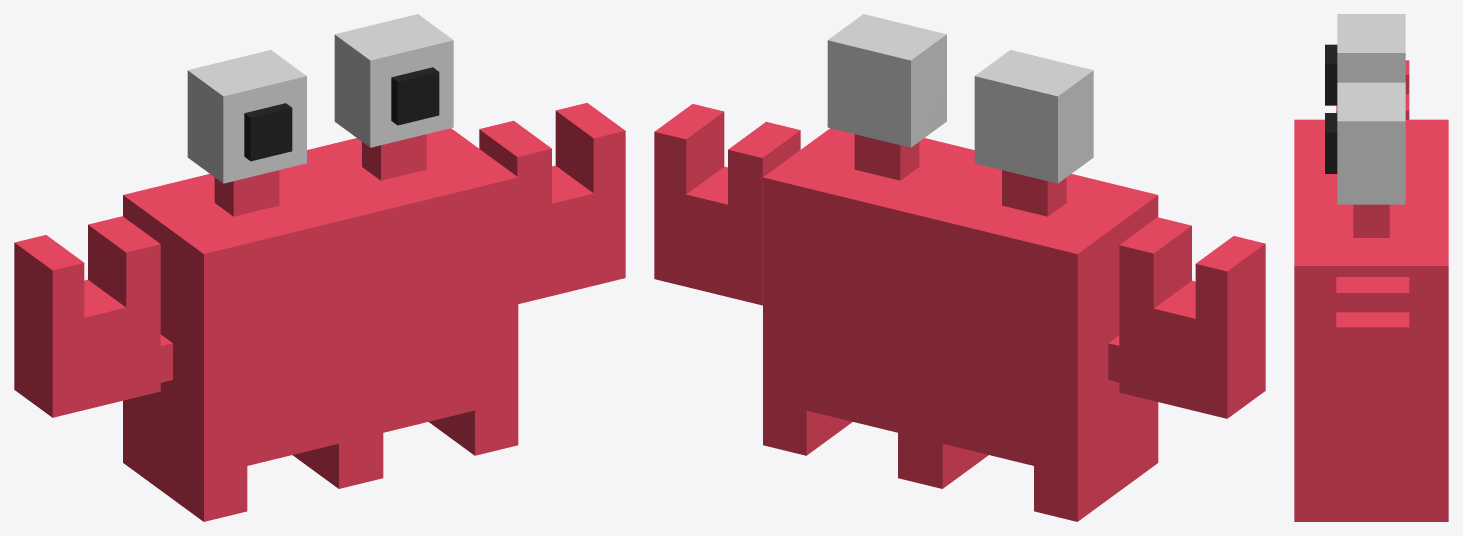
File: enemy.fbx
The picture shows the model from 3 angles, left to right: view 1: azimuth 30°, elevation 25°; view 2: azimuth 150°, elevation 25°; view 3: azimuth 270°, elevation 25°; orthographic projection. The views are drawn at different scales.
Parts seen in each view (by area): view 1: Enemy; view 2: Enemy; view 3: Enemy.
Part boxes in pixels (left/top/right/bottom): Enemy: left=14, top=14, right=625, bottom=521; Enemy: left=654, top=14, right=1265, bottom=521; Enemy: left=1294, top=14, right=1448, bottom=521.
Bounding box in the file's own units: 4.74 × 3.15 × 1.16.
